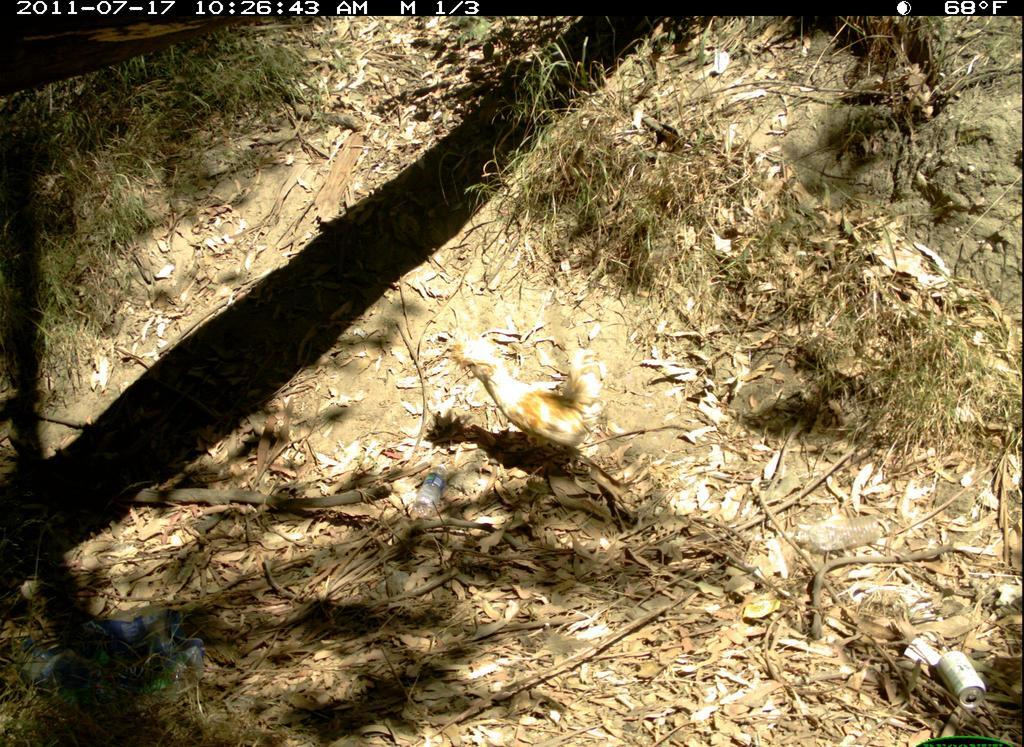bird: (452, 333, 610, 477)
